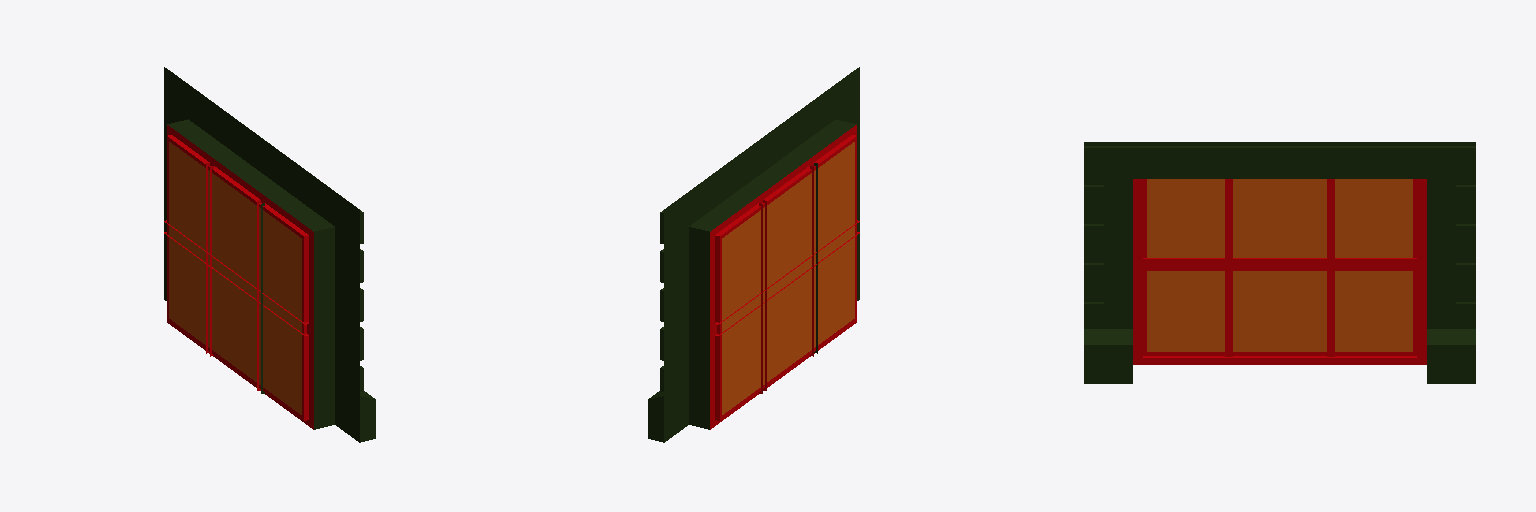
The model's file is NY_wallWindow3.obj.
3 renders of one model, left to right at view 1: azimuth 30°, elevation 25°; view 2: azimuth 150°, elevation 25°; view 3: azimuth 270°, elevation 25°, orthographic.
Parts seen in each view (by area): view 1: A_EXPO.obj.006; view 2: A_EXPO.obj.006; view 3: A_EXPO.obj.006.
Boxes of the visible parts, x1=… form: A_EXPO.obj.006: x1=164, y1=67, x2=375, y2=442; A_EXPO.obj.006: x1=648, y1=67, x2=859, y2=442; A_EXPO.obj.006: x1=1084, y1=142, x2=1475, y2=383.
Size of the model in its own units: 0.4076 by 2 by 3.05.